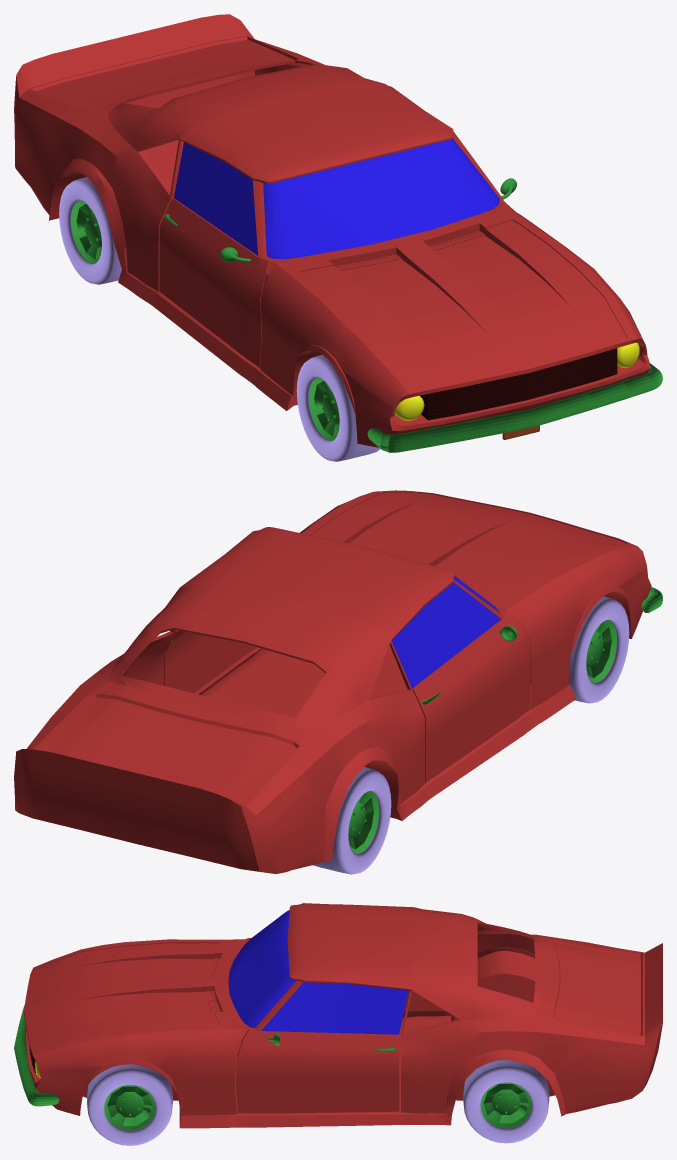
File: voiture.FBX
The picture shows the model from 3 angles, top to bottom: view 1: azimuth 30°, elevation 25°; view 2: azimuth 150°, elevation 25°; view 3: azimuth 270°, elevation 25°; orthographic projection. The views are drawn at different scales.
Visible parts, largest first — view 1: lataria; view 2: lataria; view 3: lataria.
Part boxes in pixels (left/top/right/bottom): lataria: left=14, top=14, right=662, bottom=461; lataria: left=14, top=490, right=662, bottom=874; lataria: left=14, top=903, right=662, bottom=1145.
Bounding box in the file's own units: 246 × 159 × 591.
